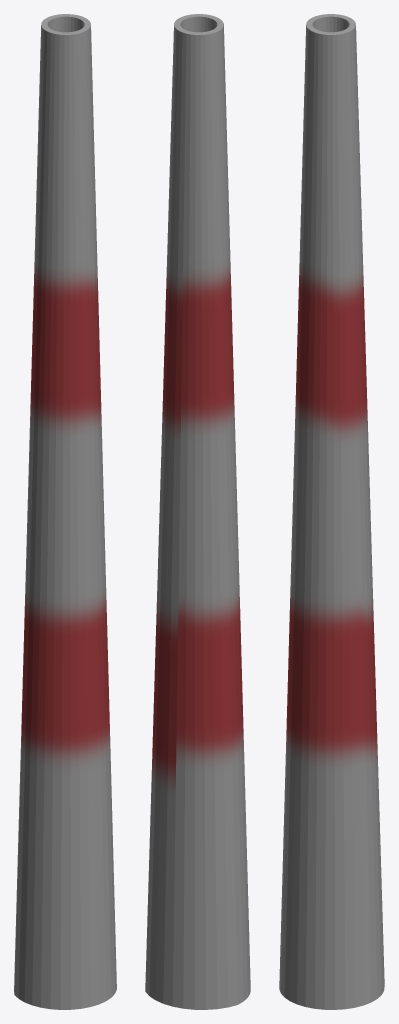
Rendered from Chimenea.fbx.
The picture shows the model from 3 angles, left to right: view 1: azimuth 30°, elevation 25°; view 2: azimuth 150°, elevation 25°; view 3: azimuth 330°, elevation 25°; orthographic projection.
Visible parts, largest first — view 1: Cylinder; view 2: Cylinder; view 3: Cylinder.
Part boxes in pixels (x1=…): Cylinder: x1=14, y1=14, x2=116, y2=1009; Cylinder: x1=145, y1=14, x2=250, y2=1009; Cylinder: x1=279, y1=14, x2=384, y2=1009.
Bounding box in the file's own units: 88.82 × 895 × 83.36.
1 material, 1 textured.
